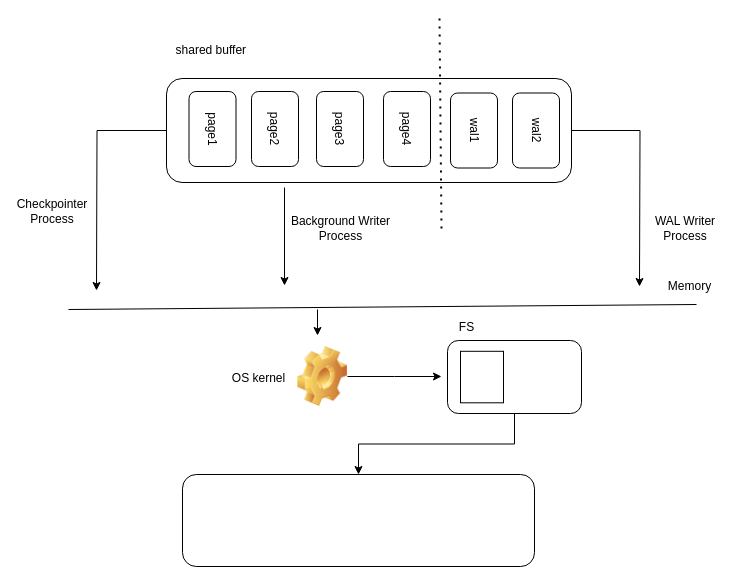
This 737x584 diagram has some shape labels left out. The shapes that lost their labels are listed below. From the top down, each one's box as (x1, y1, x2, y2) in pixels, then its label:
(460, 350, 504, 403): fs cache
(182, 474, 534, 566): Persistent storage
